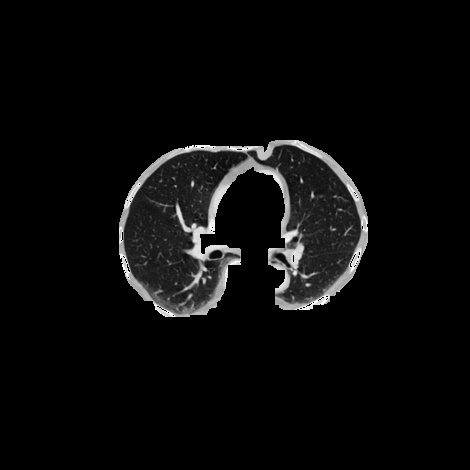PN: (256, 144, 272, 160)
